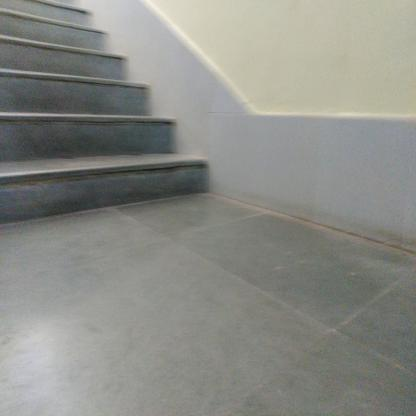stairs: (1, 28, 112, 231)
